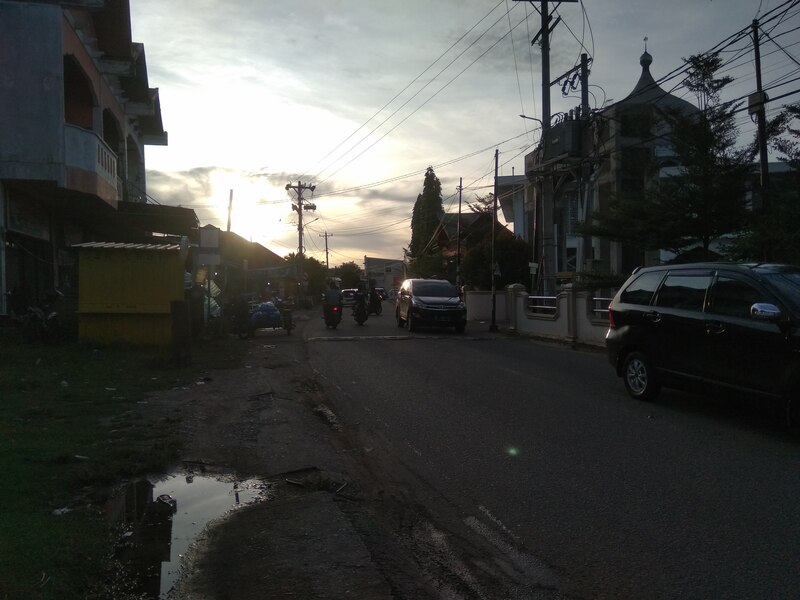car: (601, 252, 799, 436), (394, 275, 474, 341)
